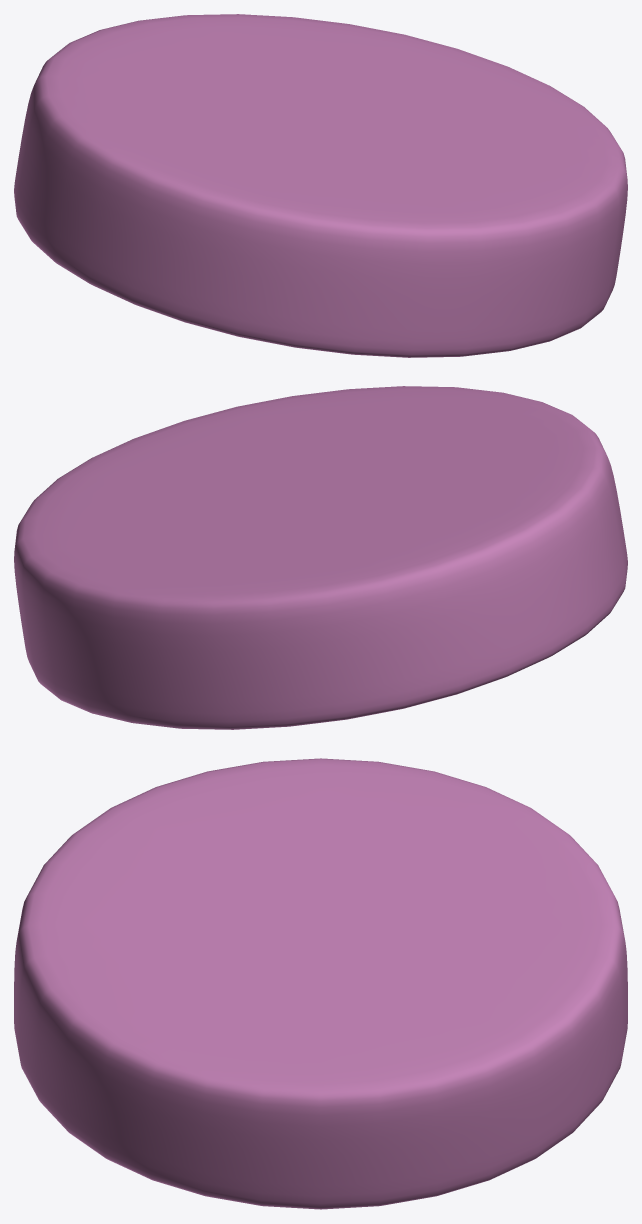
The model's file is Arcade_Cabinet_ButtonB-AS6s6Xvr.glb.
3 views of the same model, one above another, from view 1: azimuth 30°, elevation 25°; view 2: azimuth 150°, elevation 25°; view 3: azimuth 270°, elevation 25° (orthographic).
Parts seen in each view (by area): view 1: ButtonB; view 2: ButtonB; view 3: ButtonB.
Part boxes in pixels (x1,y1,x2,y2): ButtonB: [14, 14, 627, 357]; ButtonB: [14, 386, 627, 729]; ButtonB: [14, 758, 627, 1209].
Size of the model in its own units: 0.1922 by 0.0728 by 0.1903.
